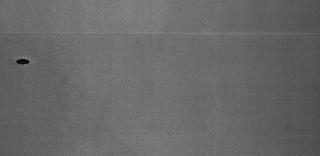punching hole: (15, 56, 30, 66)
welding line: (1, 32, 319, 40)
